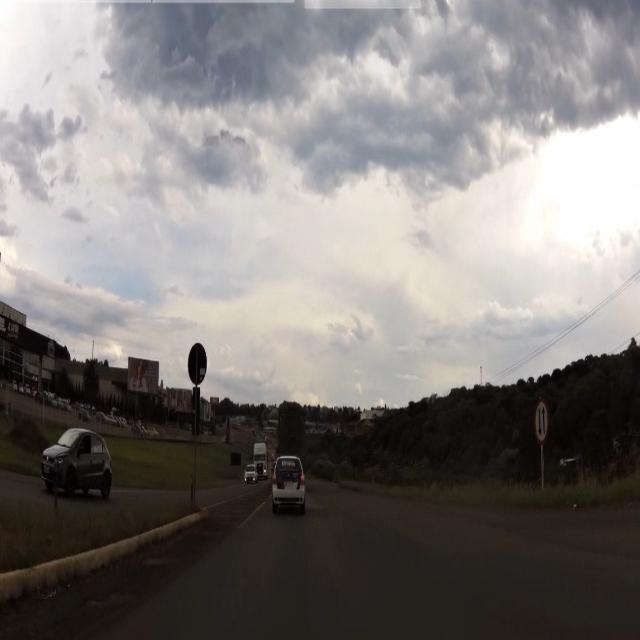R-28: (535, 402, 550, 447)
